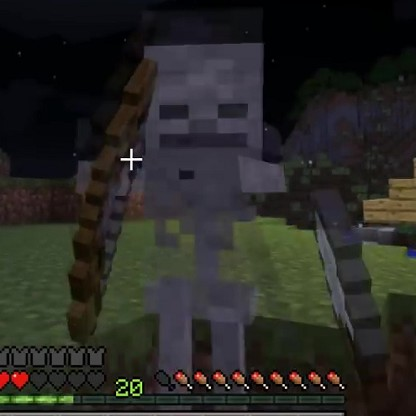skeleton: (138, 43, 269, 365)
